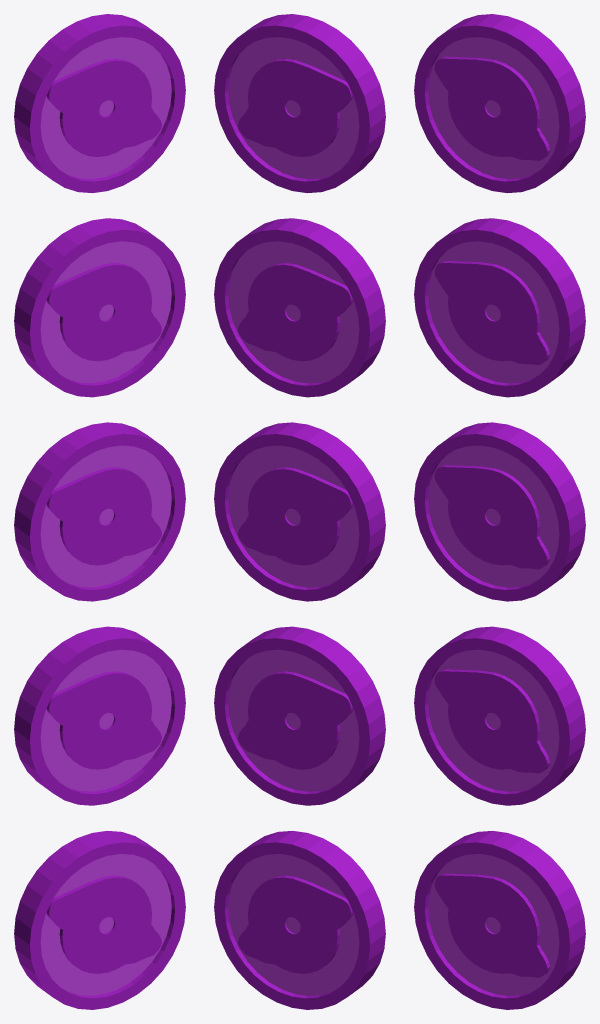
File: CoinRowVertical5.fbx
3 renders of one model, left to right at view 1: azimuth 30°, elevation 25°; view 2: azimuth 150°, elevation 25°; view 3: azimuth 330°, elevation 25°, orthographic.
Parts seen in each view (by area): view 1: Space_Token__14_, Space_Token__10_, Space_Token__13_, Space_Token__11_, Space_Token__12_; view 2: Space_Token__14_, Space_Token__10_, Space_Token__13_, Space_Token__11_, Space_Token__12_; view 3: Space_Token__14_, Space_Token__10_, Space_Token__13_, Space_Token__11_, Space_Token__12_.
Part boxes in pixels (left/top/right/bottom): Space_Token__14_: left=14, top=14, right=185, bottom=193; Space_Token__10_: left=14, top=830, right=185, bottom=1009; Space_Token__13_: left=14, top=218, right=185, bottom=397; Space_Token__11_: left=14, top=626, right=185, bottom=805; Space_Token__12_: left=14, top=422, right=185, bottom=601; Space_Token__14_: left=214, top=14, right=385, bottom=193; Space_Token__10_: left=214, top=830, right=385, bottom=1009; Space_Token__13_: left=214, top=218, right=385, bottom=397; Space_Token__11_: left=214, top=626, right=385, bottom=805; Space_Token__12_: left=214, top=422, right=385, bottom=601; Space_Token__14_: left=414, top=14, right=585, bottom=193; Space_Token__10_: left=414, top=830, right=585, bottom=1009; Space_Token__13_: left=414, top=218, right=585, bottom=397; Space_Token__11_: left=414, top=626, right=585, bottom=805; Space_Token__12_: left=414, top=422, right=585, bottom=601.
Bounding box in the file's own units: 80 × 480 × 14.
